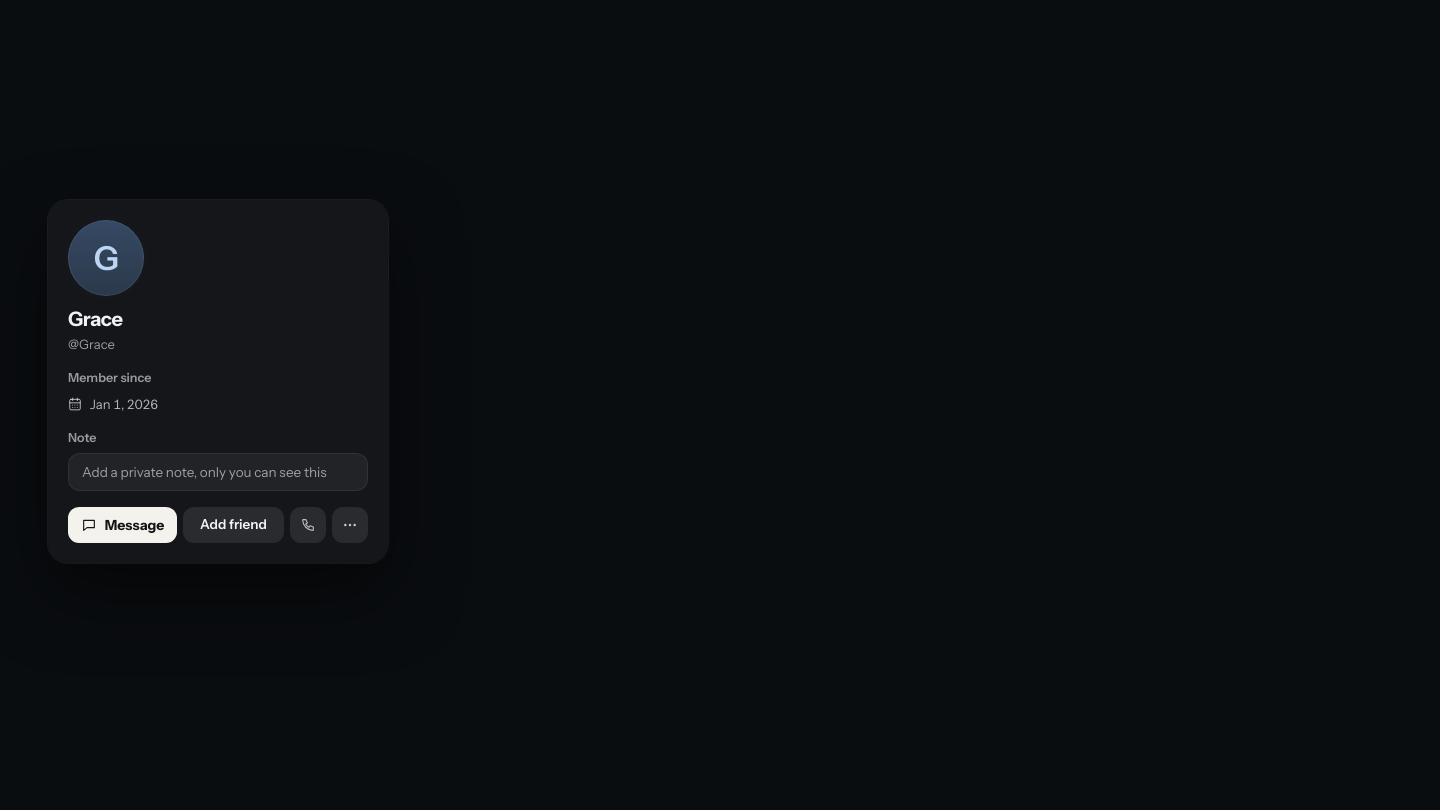
Test: UserProfilePopup action feedback › keeps Block, Report, Verify and Copy user ID in the more-actions menu
Click the button named "More actions". click: click(350, 525)
box: x1=332 y1=507 x2=368 y2=543
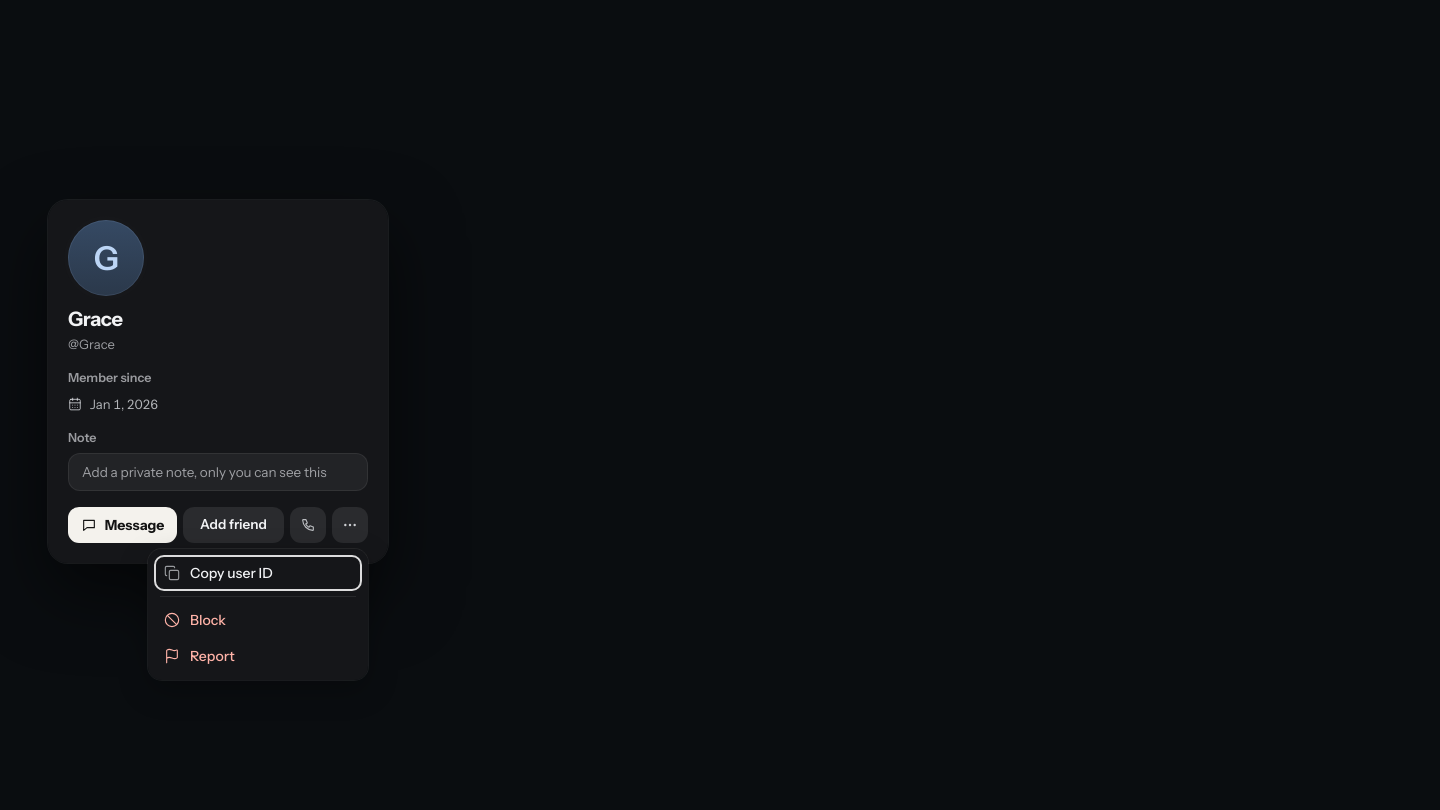
expect the menu item "Copy user ID" is shown: met, box x1=154 y1=555 x2=362 y2=591
